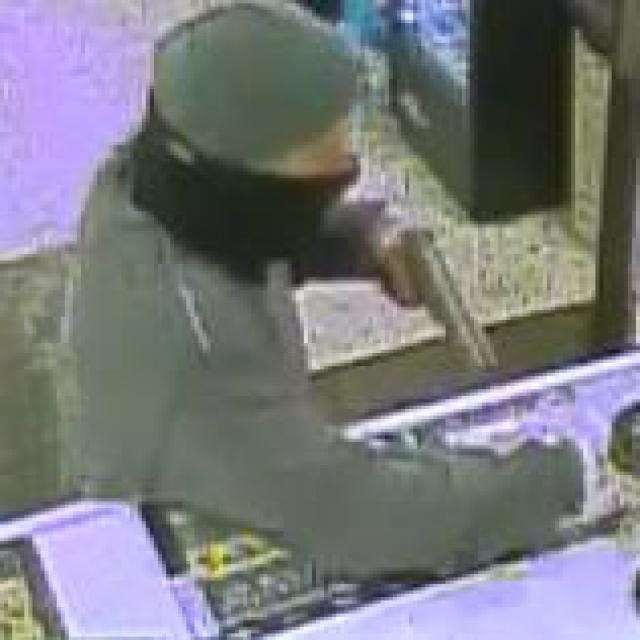Gun: (373, 214, 506, 373)
